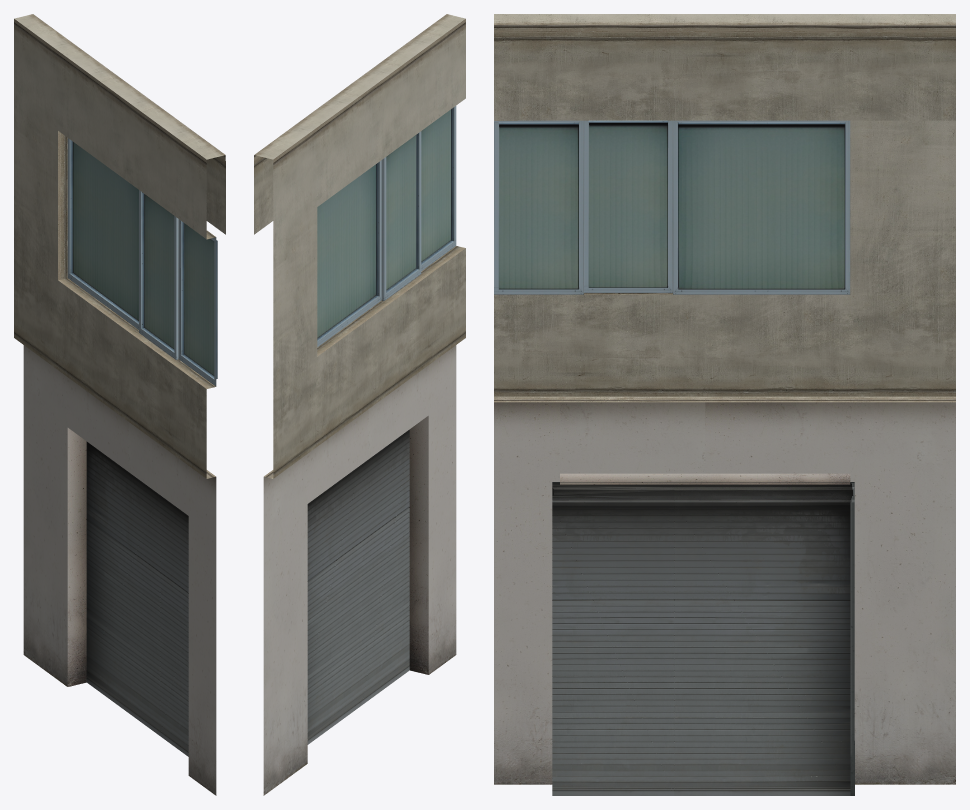
Rendered from SM_ind_building_02.fbx.
3 renders of one model, left to right at view 1: azimuth 30°, elevation 25°; view 2: azimuth 150°, elevation 25°; view 3: azimuth 270°, elevation 25°, orthographic. The views are drawn at different scales.
Parts seen in each view (by area): view 1: SM_ind_building_02; view 2: SM_ind_building_02; view 3: SM_ind_building_02.
Part boxes in pixels (x1=…): SM_ind_building_02: x1=14, y1=14, x2=225, y2=795; SM_ind_building_02: x1=254, y1=14, x2=465, y2=795; SM_ind_building_02: x1=494, y1=14, x2=955, y2=795.
Size of the model in its own units: 48.13 by 560 by 1024.
4 materials, 4 textured.
